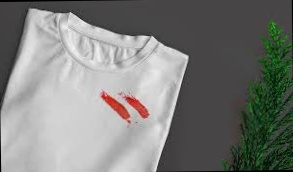lipstick: (126, 90, 151, 119), (104, 95, 133, 120), (99, 90, 118, 103)
